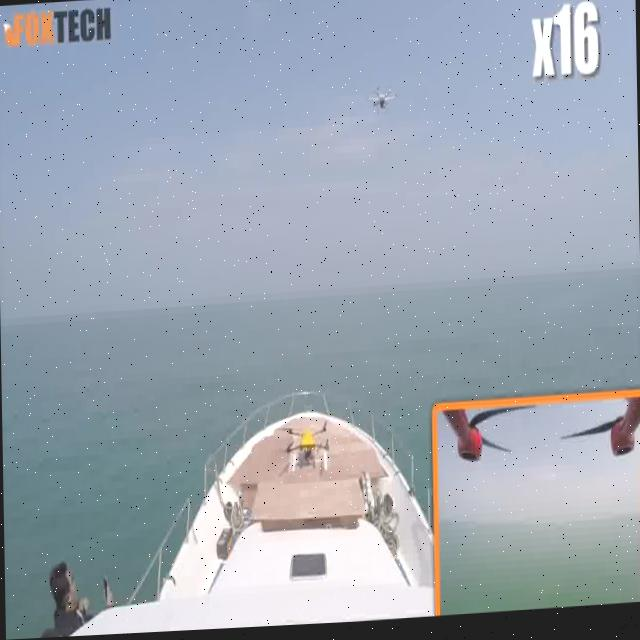drone: (272, 411, 328, 485), (344, 80, 402, 149)
